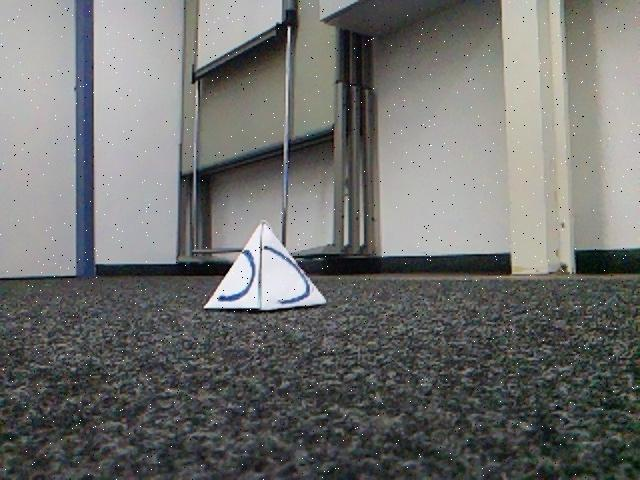C: (202, 223, 325, 313)
